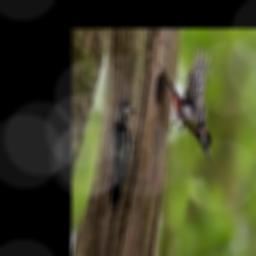Woodpecker: (165, 46, 211, 161), (111, 99, 138, 210)
